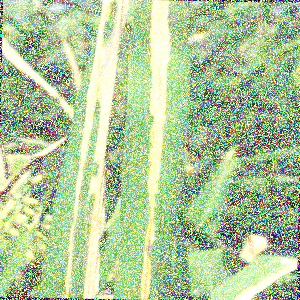Leaf_Blast: (51, 1, 127, 293), (120, 1, 191, 297)
